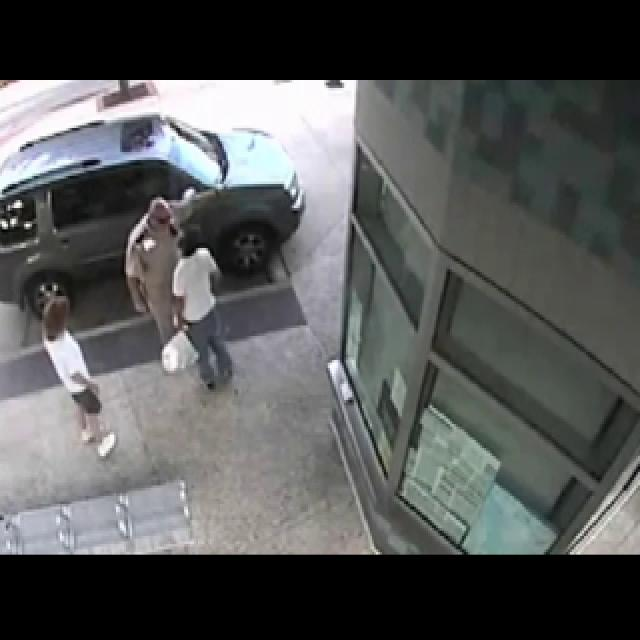arrest: (105, 129, 329, 460)
